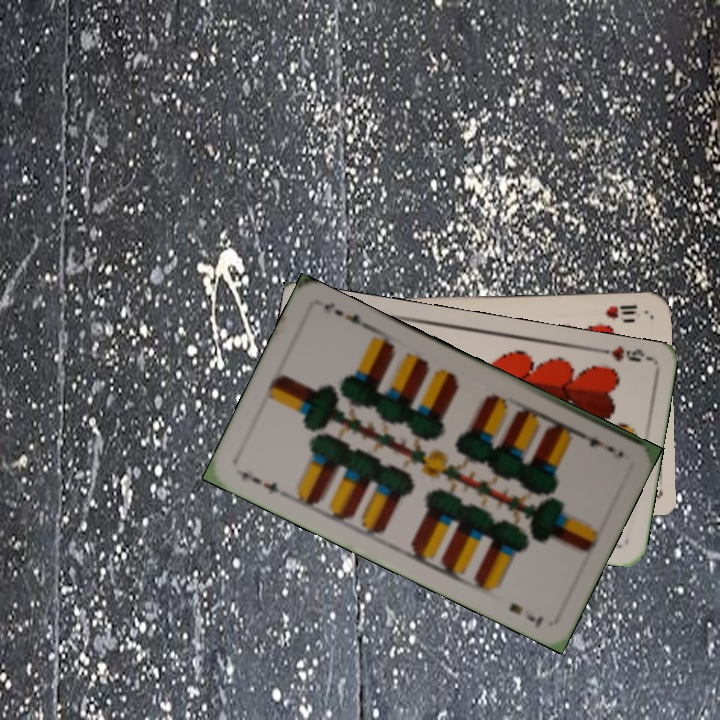E7: (237, 467, 281, 498), (573, 427, 619, 455)
H10: (601, 301, 642, 324)
H9: (592, 342, 651, 365)
